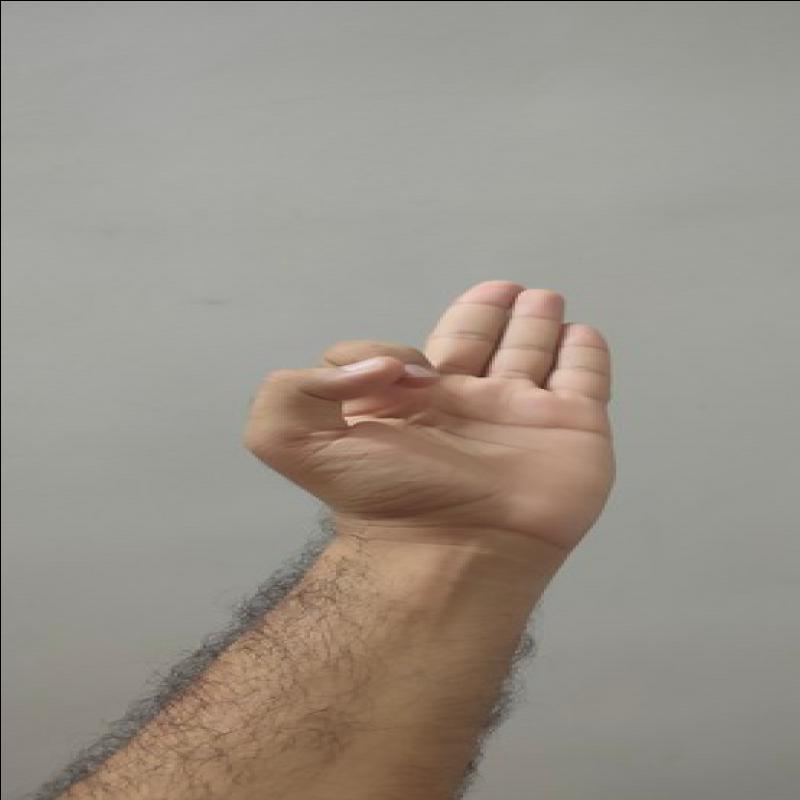Mudraakhyam: (236, 252, 628, 562)
